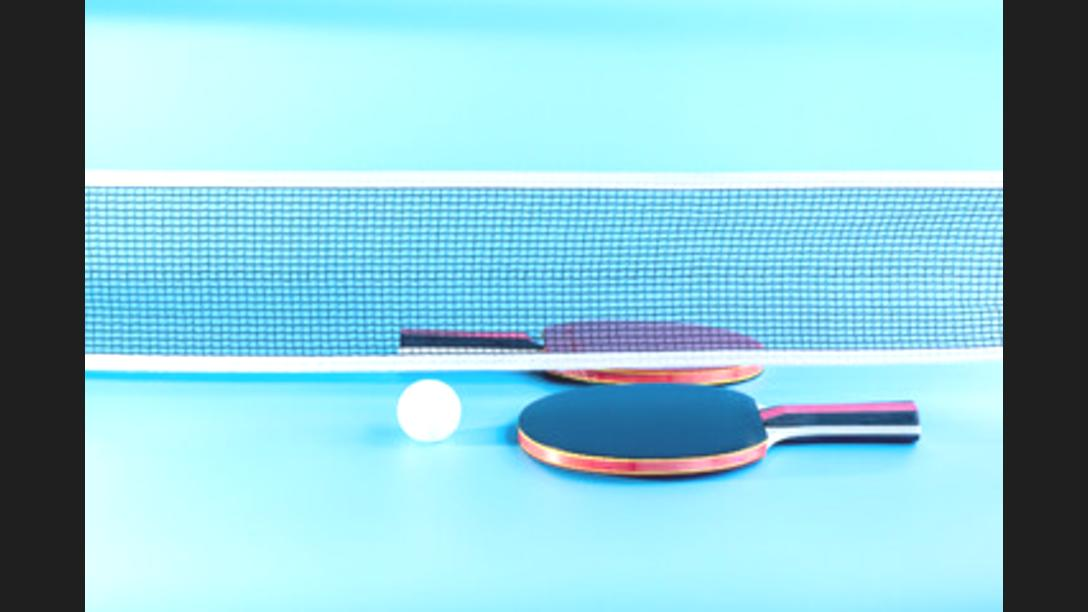Table-Tennis-Ball: (399, 380, 459, 440)
